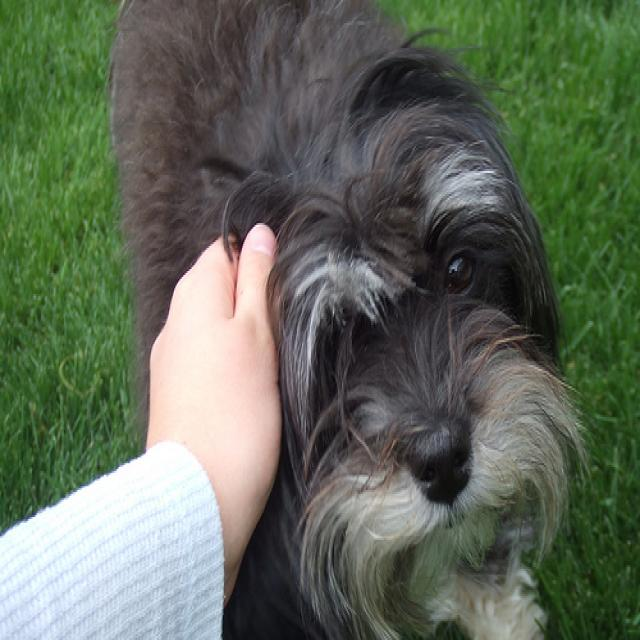dog-havanese: (109, 2, 579, 636)
